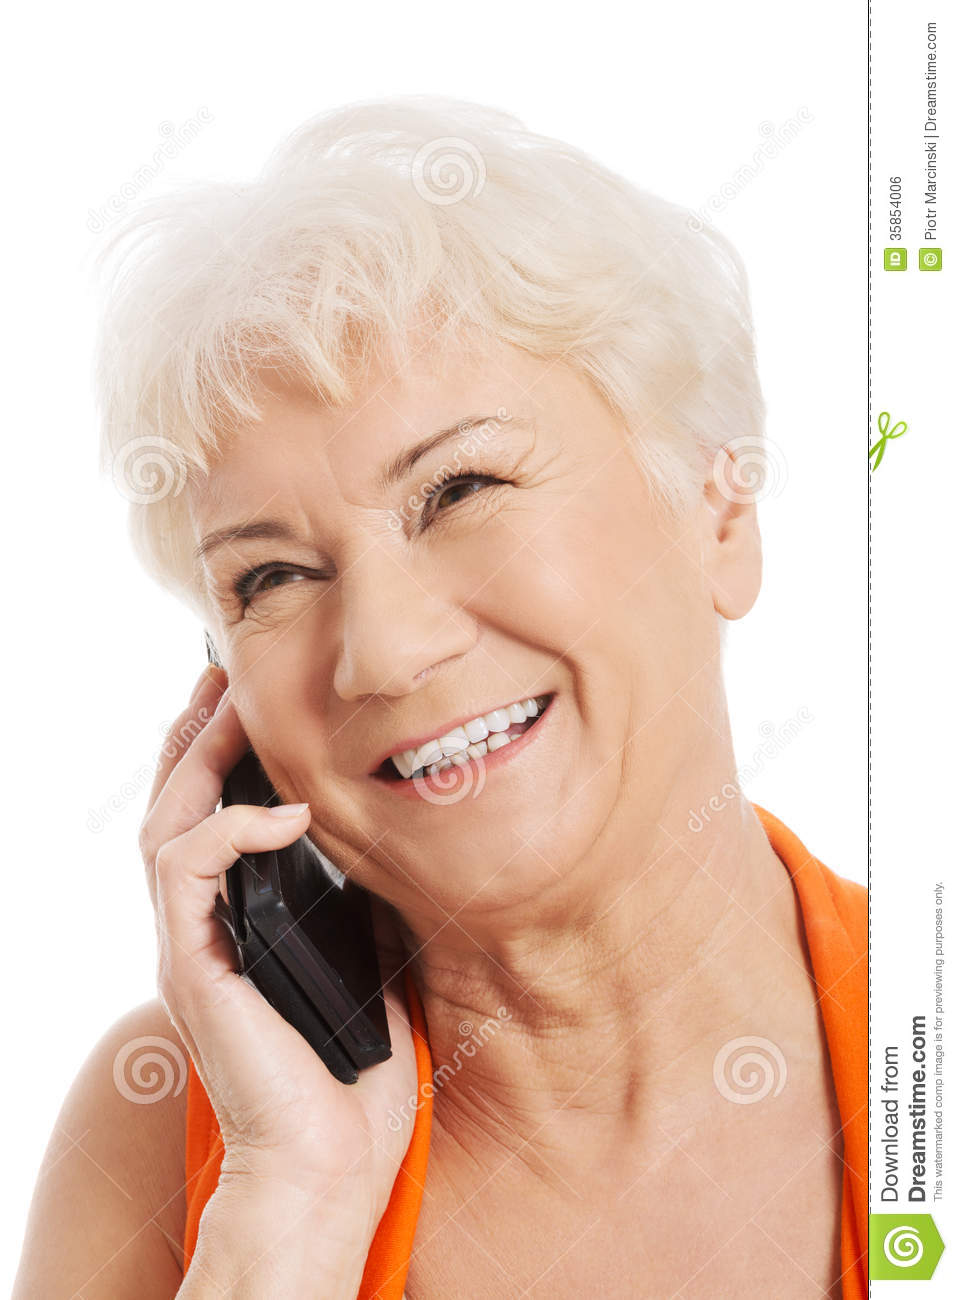phone: (224, 737, 409, 1098)
talk: (149, 400, 632, 1240)
